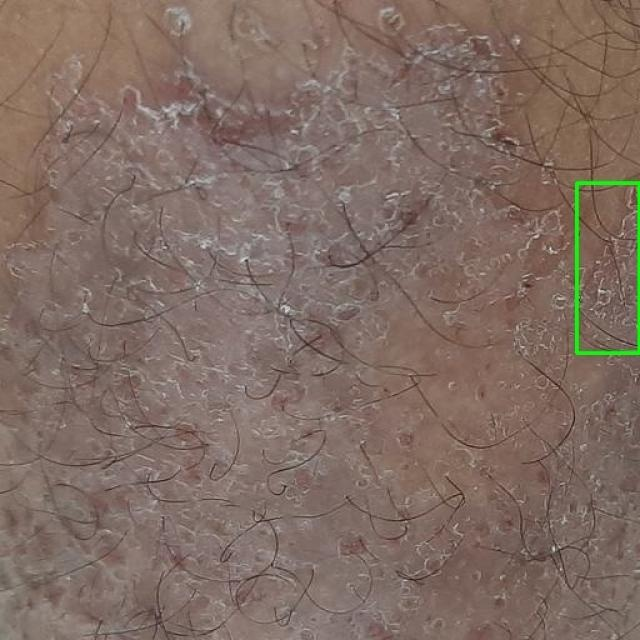Eczema: (576, 182, 639, 352)
